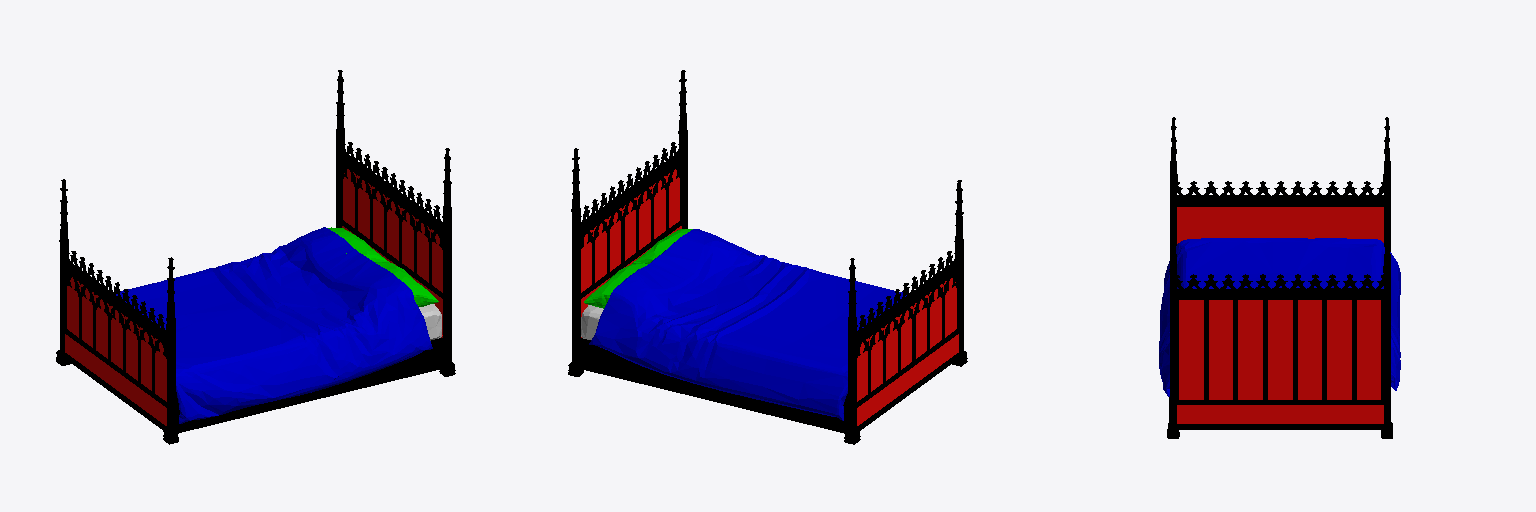
Rendered from GothicBed_01.obj.
The picture shows the model from 3 angles: view 1: azimuth 30°, elevation 25°; view 2: azimuth 150°, elevation 25°; view 3: azimuth 270°, elevation 25°; orthographic projection.
Parts seen in each view (by area): view 1: GothicBed_01.001_Plane.001, GothicBed_01_Plane.004; view 2: GothicBed_01.001_Plane.001, GothicBed_01_Plane.004; view 3: GothicBed_01_Plane.004, GothicBed_01.001_Plane.001.
Boxes of the visible parts, box(x1,y1,x2,y2) form: GothicBed_01.001_Plane.001: box(116, 227, 432, 423); GothicBed_01_Plane.004: box(56, 70, 455, 444); GothicBed_01.001_Plane.001: box(589, 229, 906, 420); GothicBed_01_Plane.004: box(568, 70, 967, 444); GothicBed_01_Plane.004: box(1167, 117, 1392, 438); GothicBed_01.001_Plane.001: box(1159, 238, 1400, 396).
Bounding box in the file's own units: 2.04 × 1.53 × 1.49.